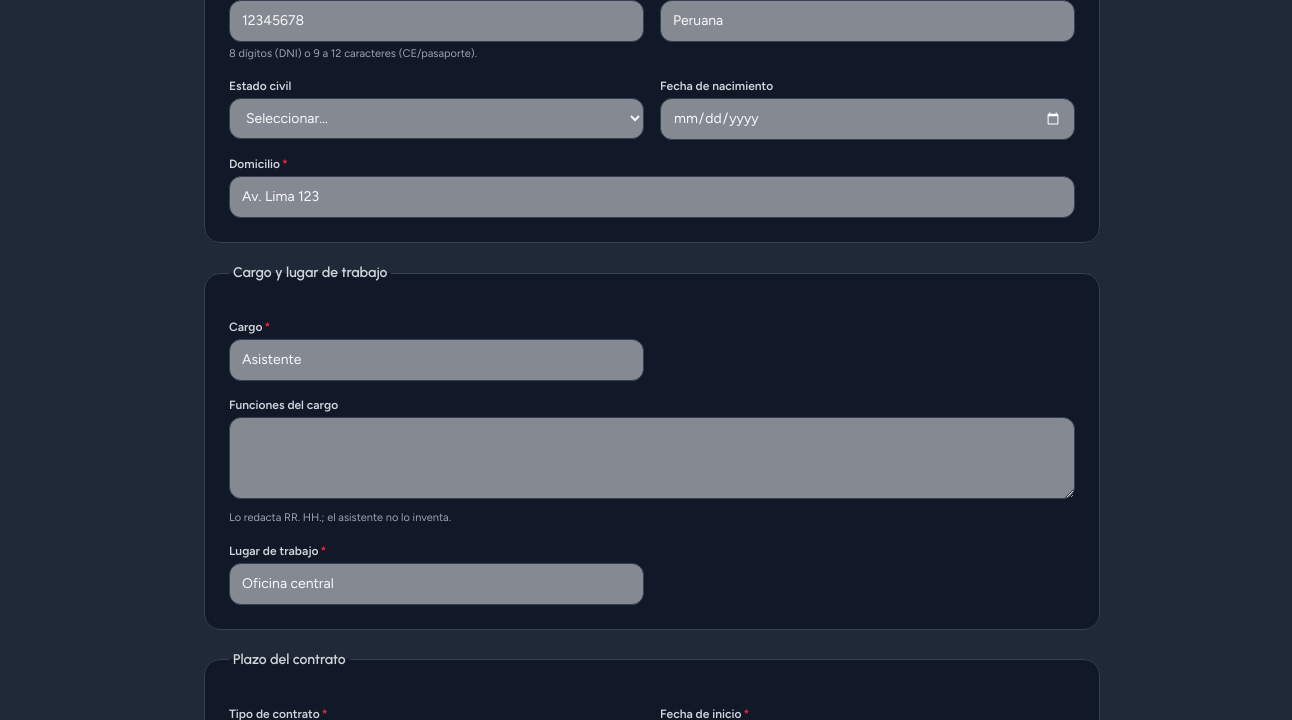
HRDocumentCreatePage — edición de borrador › guardar hace PATCH con {data, template_id} (sin personal_id/source) y vuelve al detalle
This screenshot has width=1292, height=720.
(page scrolled)
Replace the text in the field labelled "Cargo*" with "Coordinadora": {"x": 436, "y": 360} [229, 339, 644, 381]
(page scrolled)
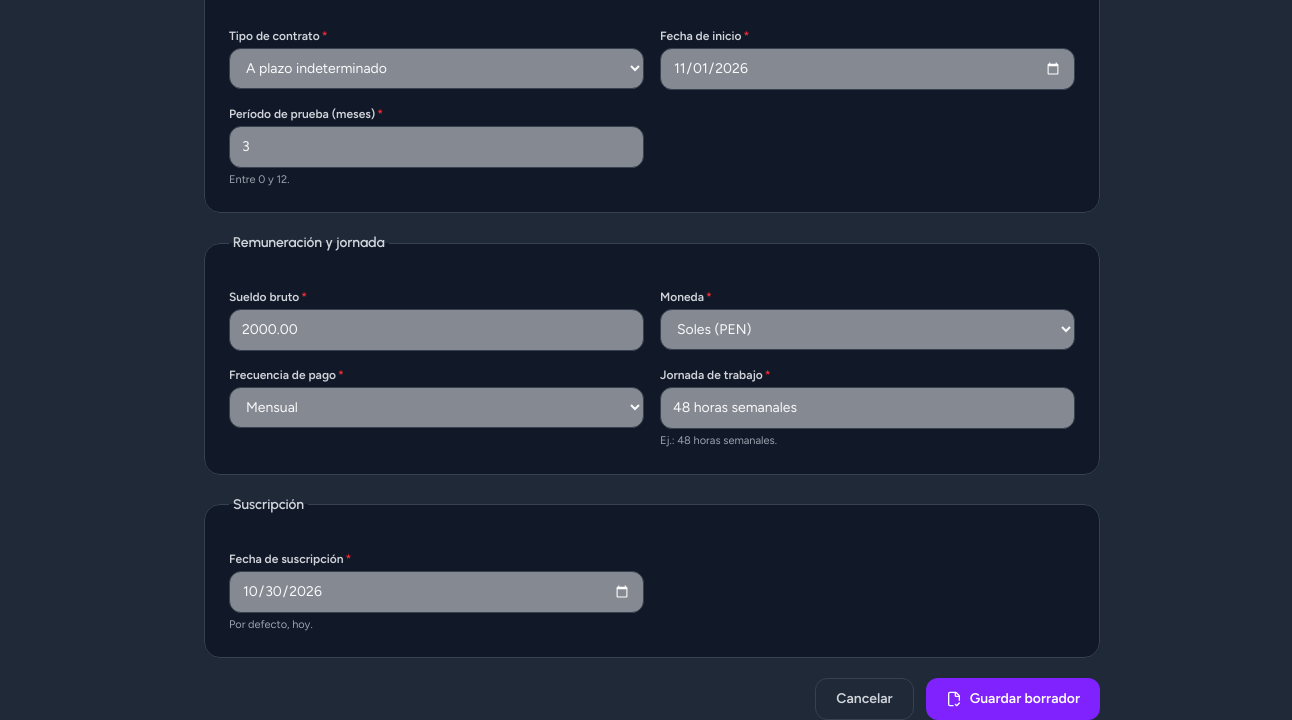
Click the button "Guardar borrador": {"x": 1013, "y": 699} [926, 678, 1100, 719]
(page scrolled)
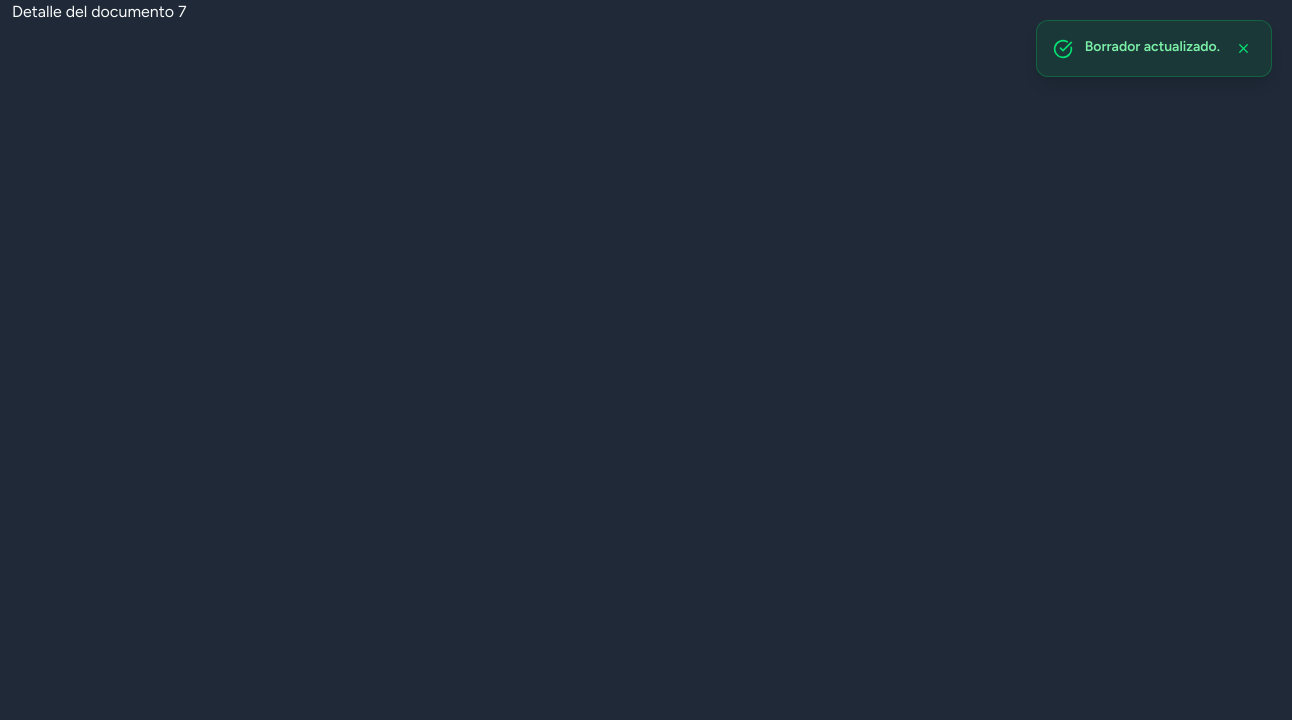
Expected: the text "Detalle del documento 7" is shown, [12, 2, 187, 21]
